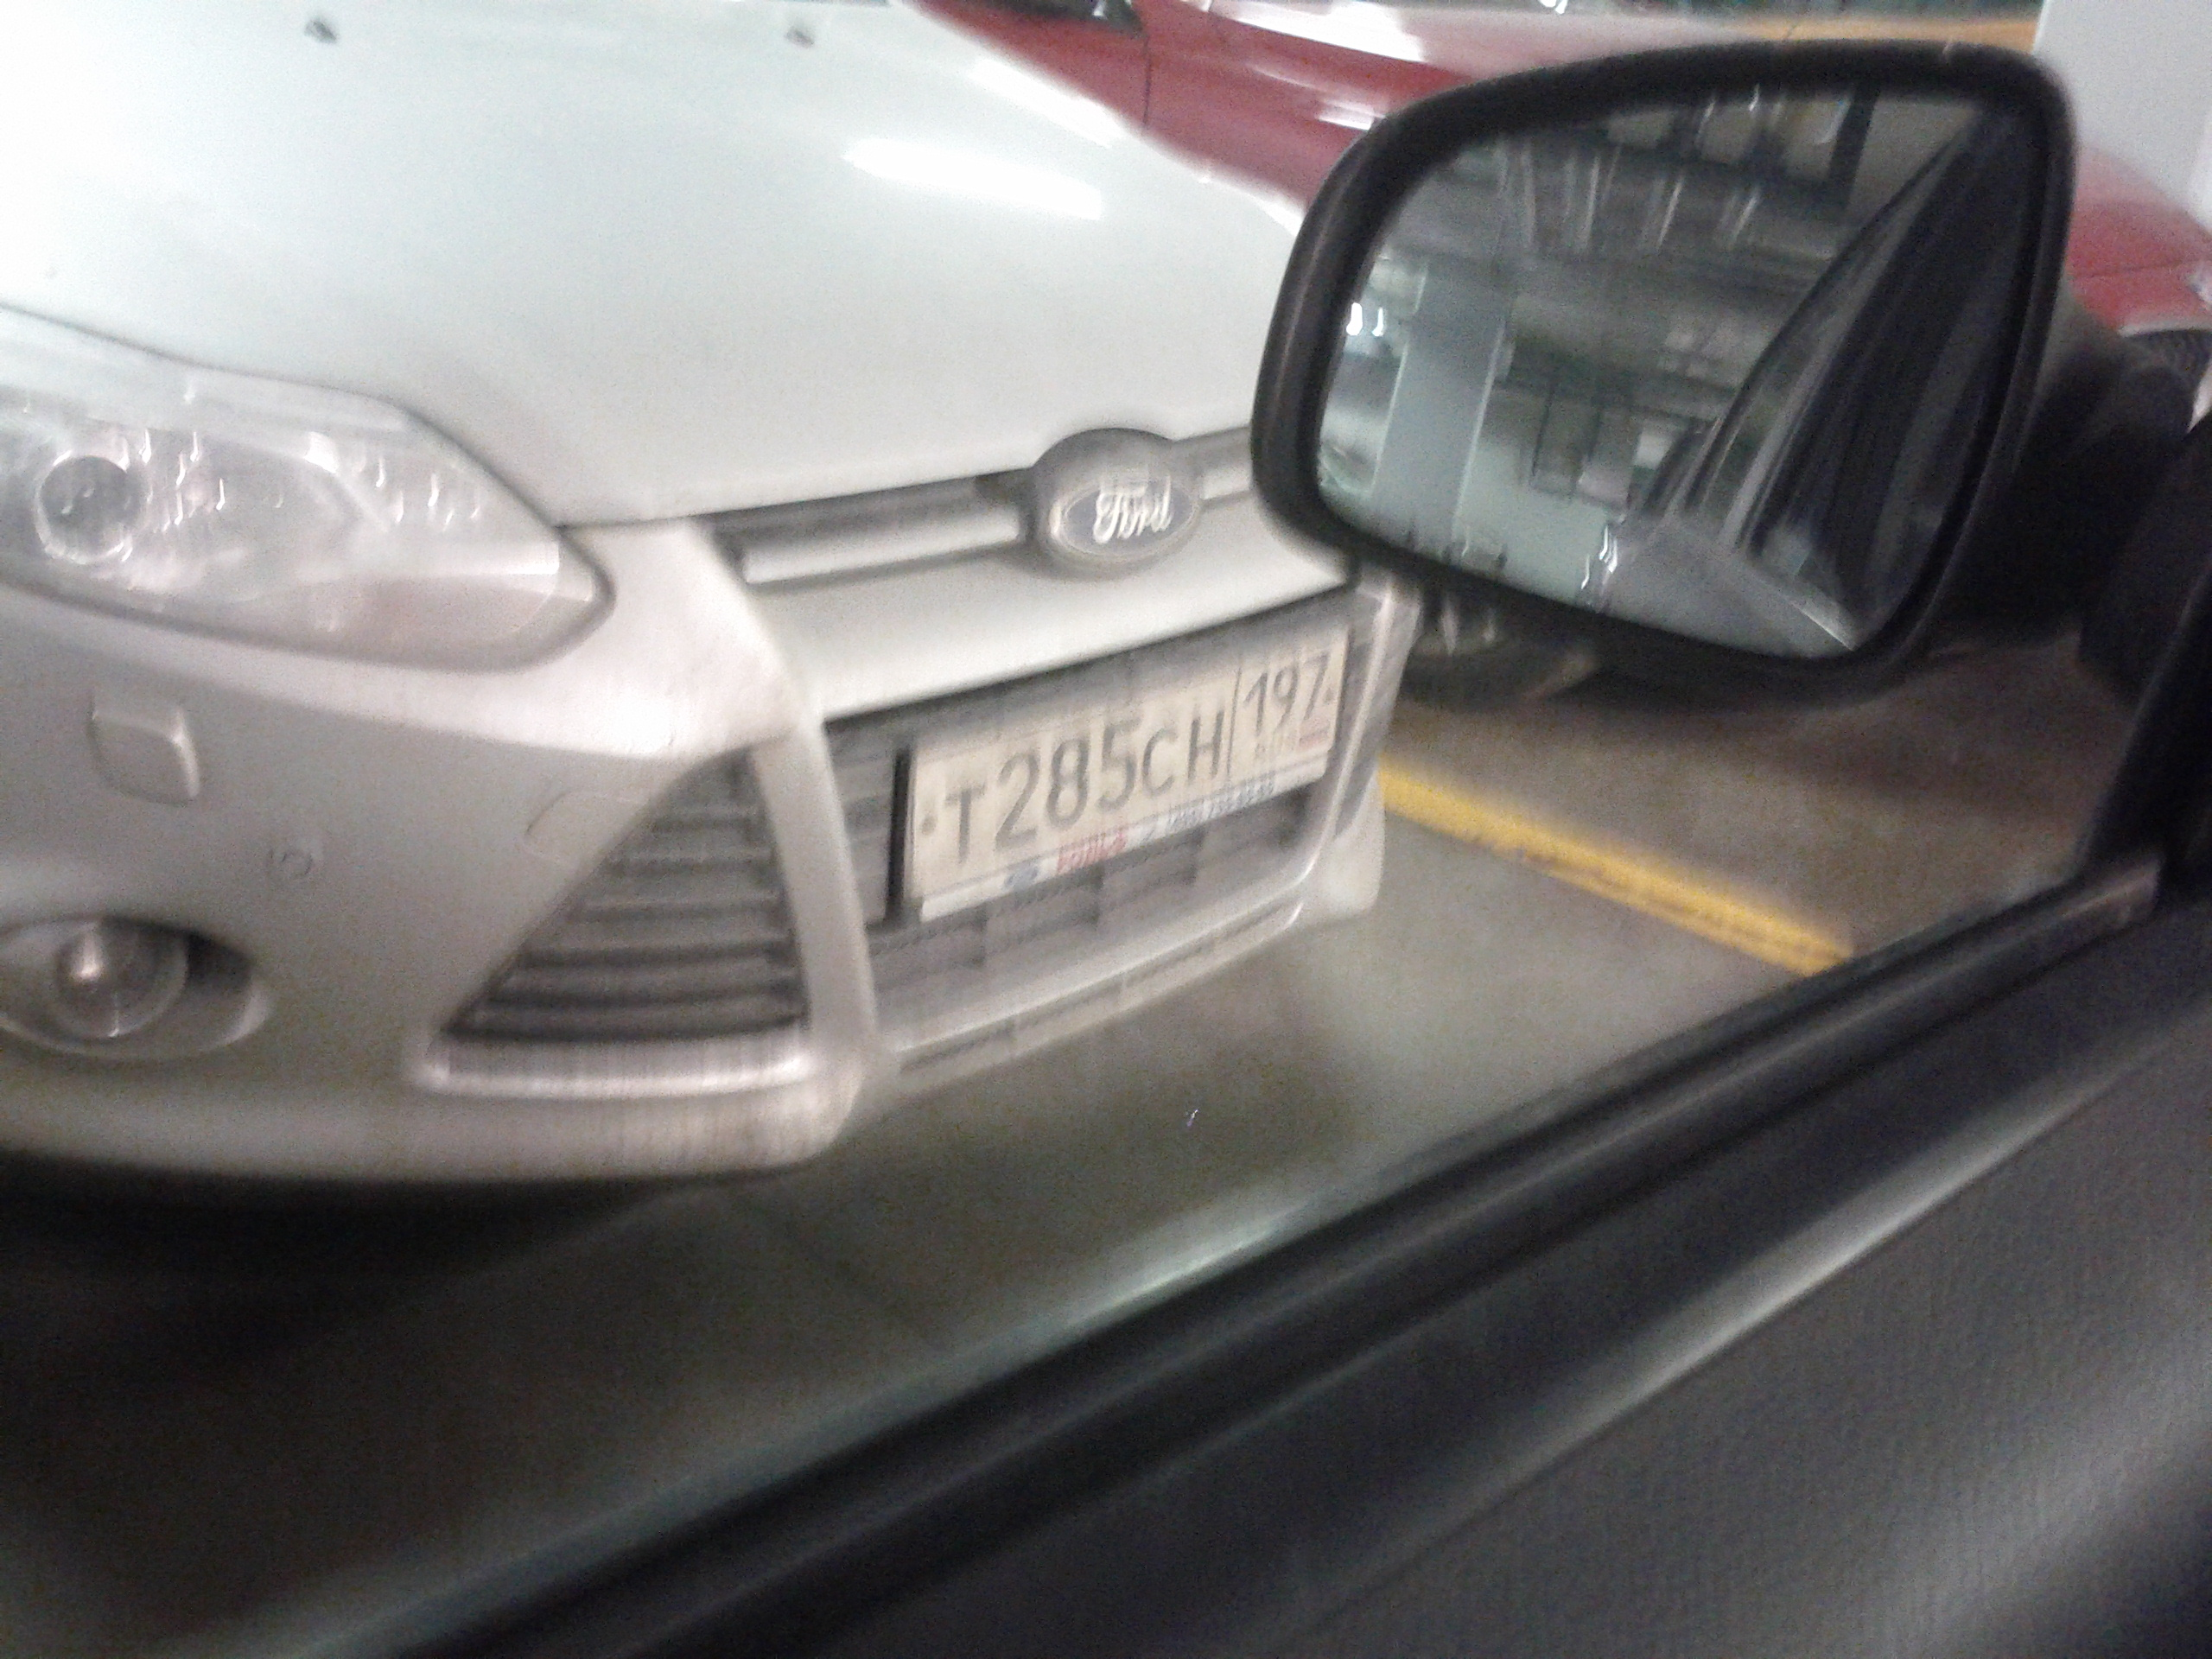car license plate: (895, 620, 1349, 906)
